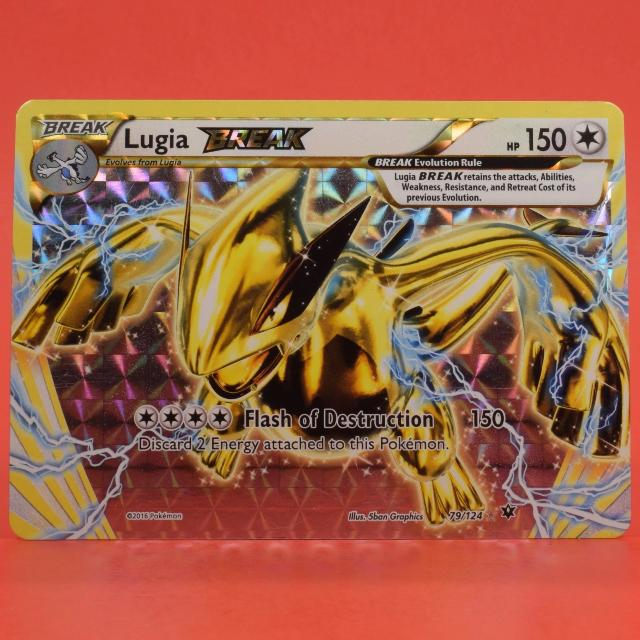Card: (4, 93, 637, 547)
Name: (119, 122, 322, 157)
